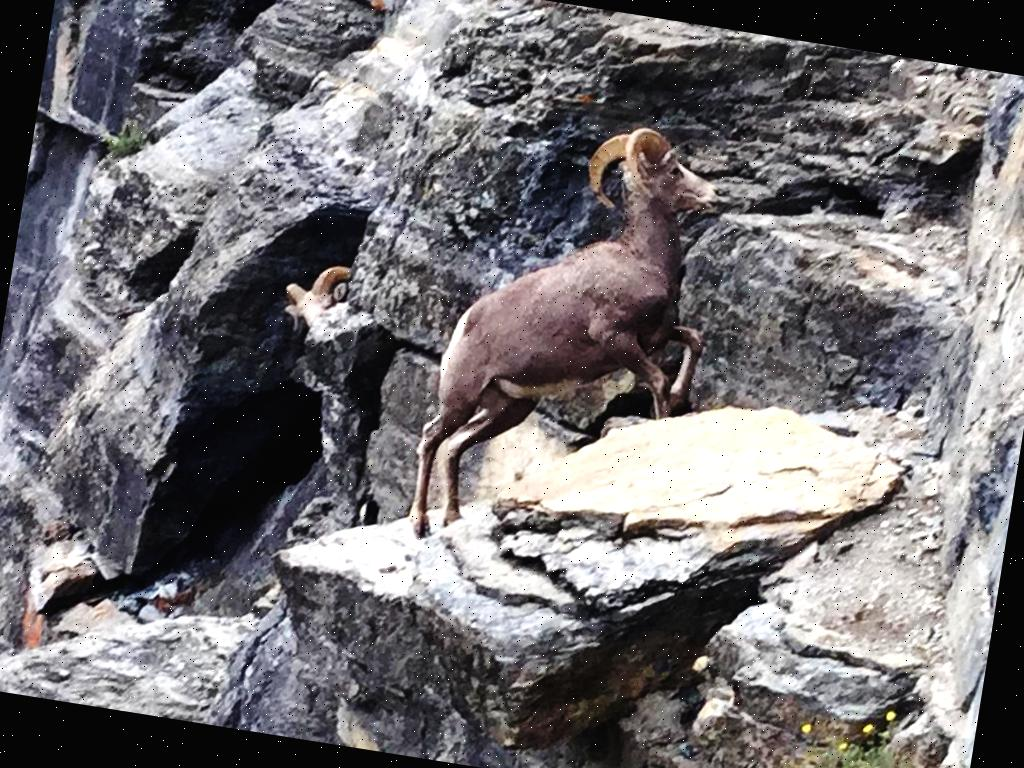Sheep: (395, 98, 730, 581)
